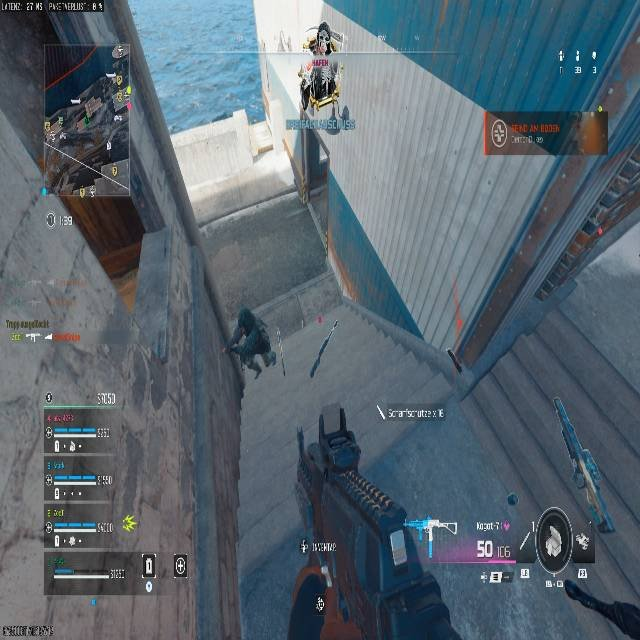head: (237, 307, 254, 325), (318, 21, 330, 35)
player: (227, 307, 275, 398), (297, 22, 343, 115), (307, 21, 341, 54)
